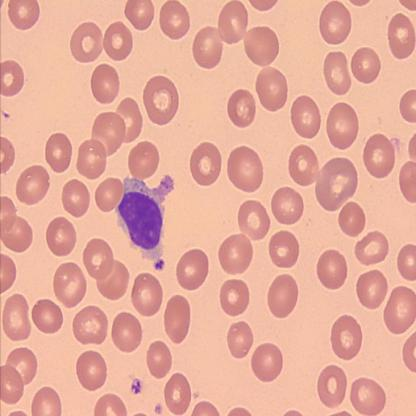Atypical lymphocyte: (115, 173, 175, 272)
